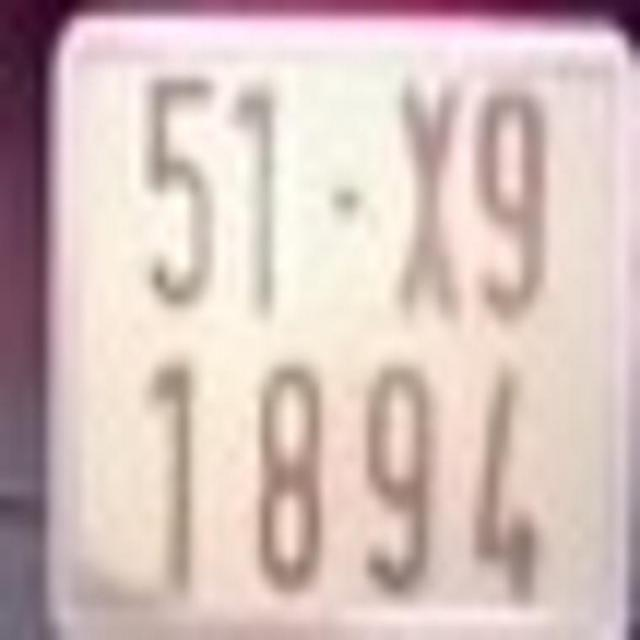1: (152, 369, 202, 592), (242, 85, 280, 318)
4: (472, 370, 548, 593)
5: (145, 82, 225, 301)
8: (259, 364, 324, 586)
9: (366, 367, 429, 595), (482, 95, 537, 315)
X: (402, 102, 457, 324)
